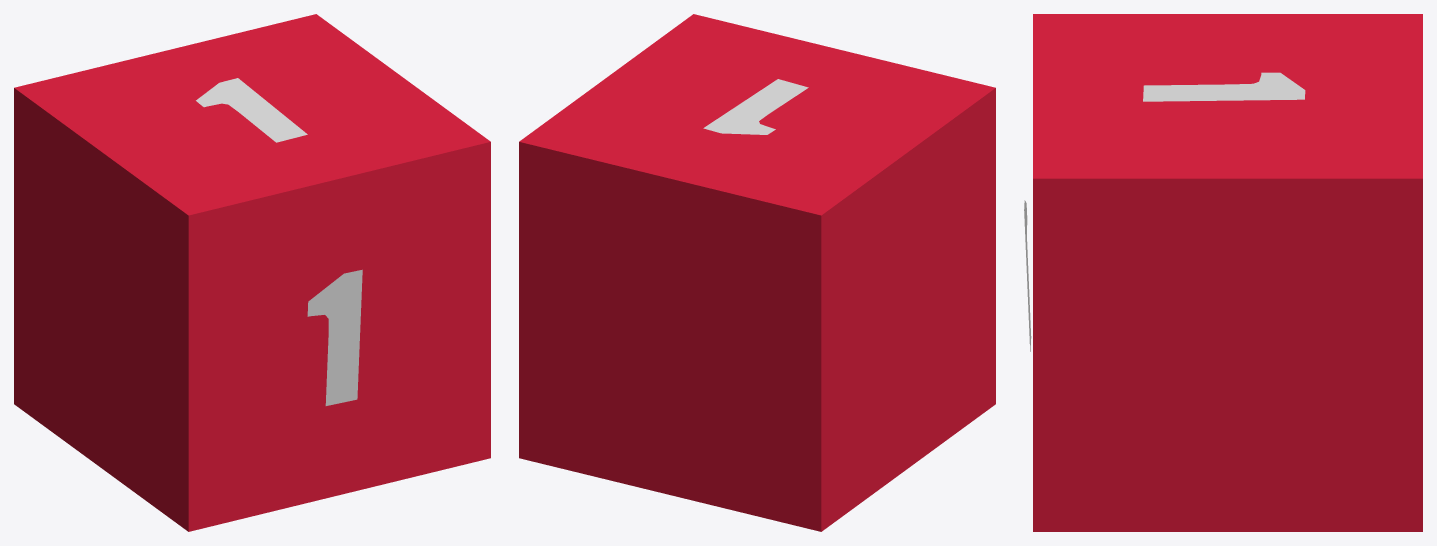
The picture shows the model from 3 angles, left to right: view 1: azimuth 30°, elevation 25°; view 2: azimuth 150°, elevation 25°; view 3: azimuth 270°, elevation 25°; orthographic projection. The views are drawn at different scales.
Visible parts, largest first — view 1: Cube, Text.001, Text; view 2: Cube, Text; view 3: Cube, Text.
Part boxes in pixels (left/top/right/bottom): Cube: left=14, top=14, right=490, bottom=531; Text.001: left=307, top=269, right=362, bottom=405; Text: left=196, top=78, right=307, bottom=142; Cube: left=519, top=14, right=995, bottom=531; Text: left=703, top=79, right=808, bottom=134; Cube: left=1033, top=14, right=1422, bottom=531; Text: left=1143, top=72, right=1305, bottom=101.
Bounding box in the file's own units: 200 × 204 × 205.
